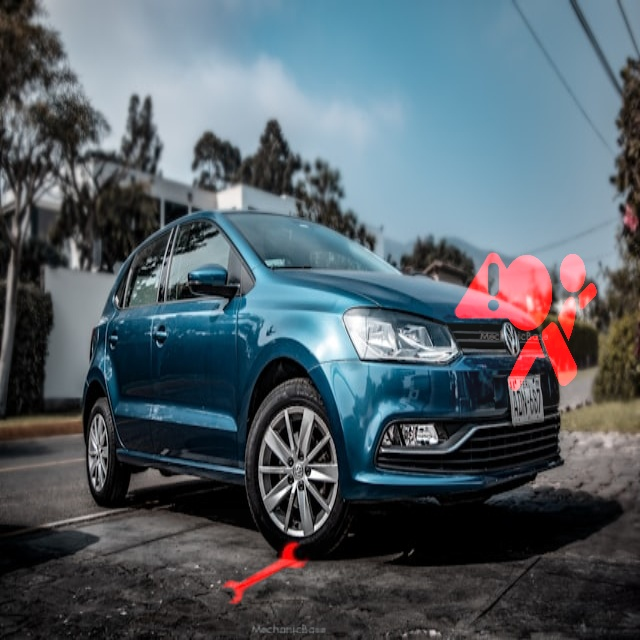symbol: (451, 226, 635, 410), (200, 509, 331, 640), (433, 226, 553, 346)
